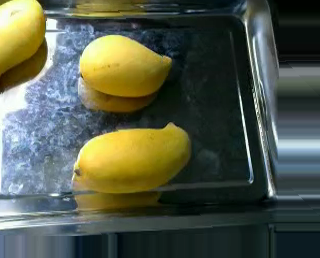Mango: (75, 118, 191, 189), (77, 32, 173, 100), (0, 0, 47, 73)
